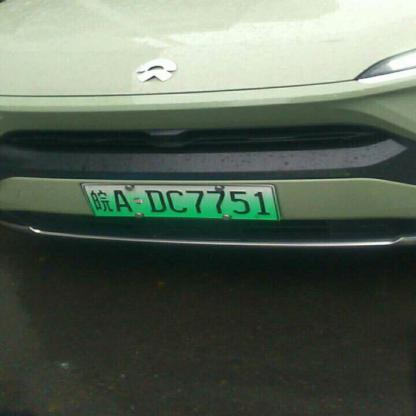lp: (83, 185, 279, 219)
